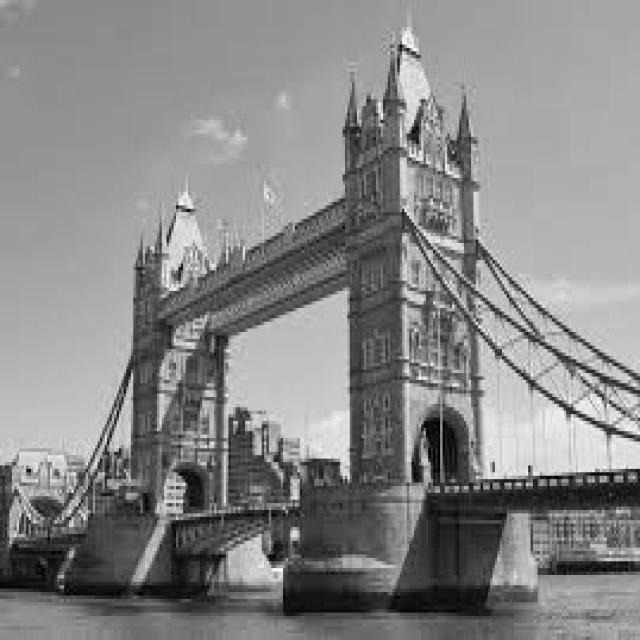Bridges: (18, 14, 628, 593)
